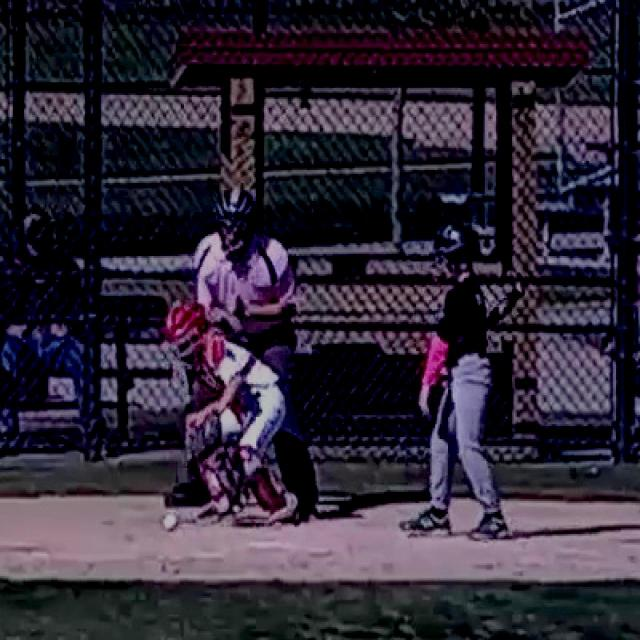baseball: (164, 515, 176, 530)
